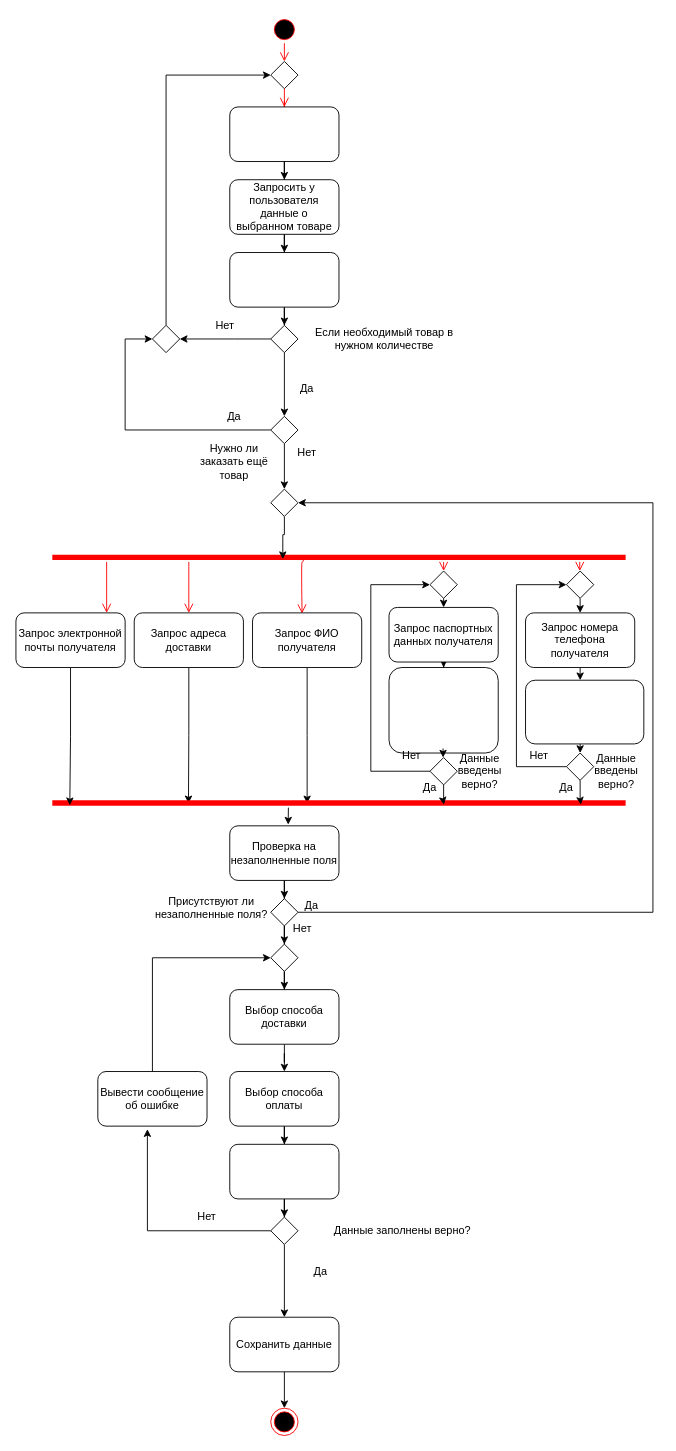
The diagram is 676 pixels wide and 1451 high, and some of its shapes have lost their labels. The shapes that lost their labels are listed below. From the top down, each one's centre as x and y in pixels, then its label:
At (284,134): "Предоставление пользователю каталог товаров".
At (284,279): "Запросить у пользователя о необходимом количестве".
At (443,710): "Проверка соответствия введенных паспортных данных маске ввода ____-__-__".
At (584,711): "Проверка соответствия введенного номера телефона маске ввода +7(___)-__-__".
At (284,1171): "Проверка данных о доставке".
